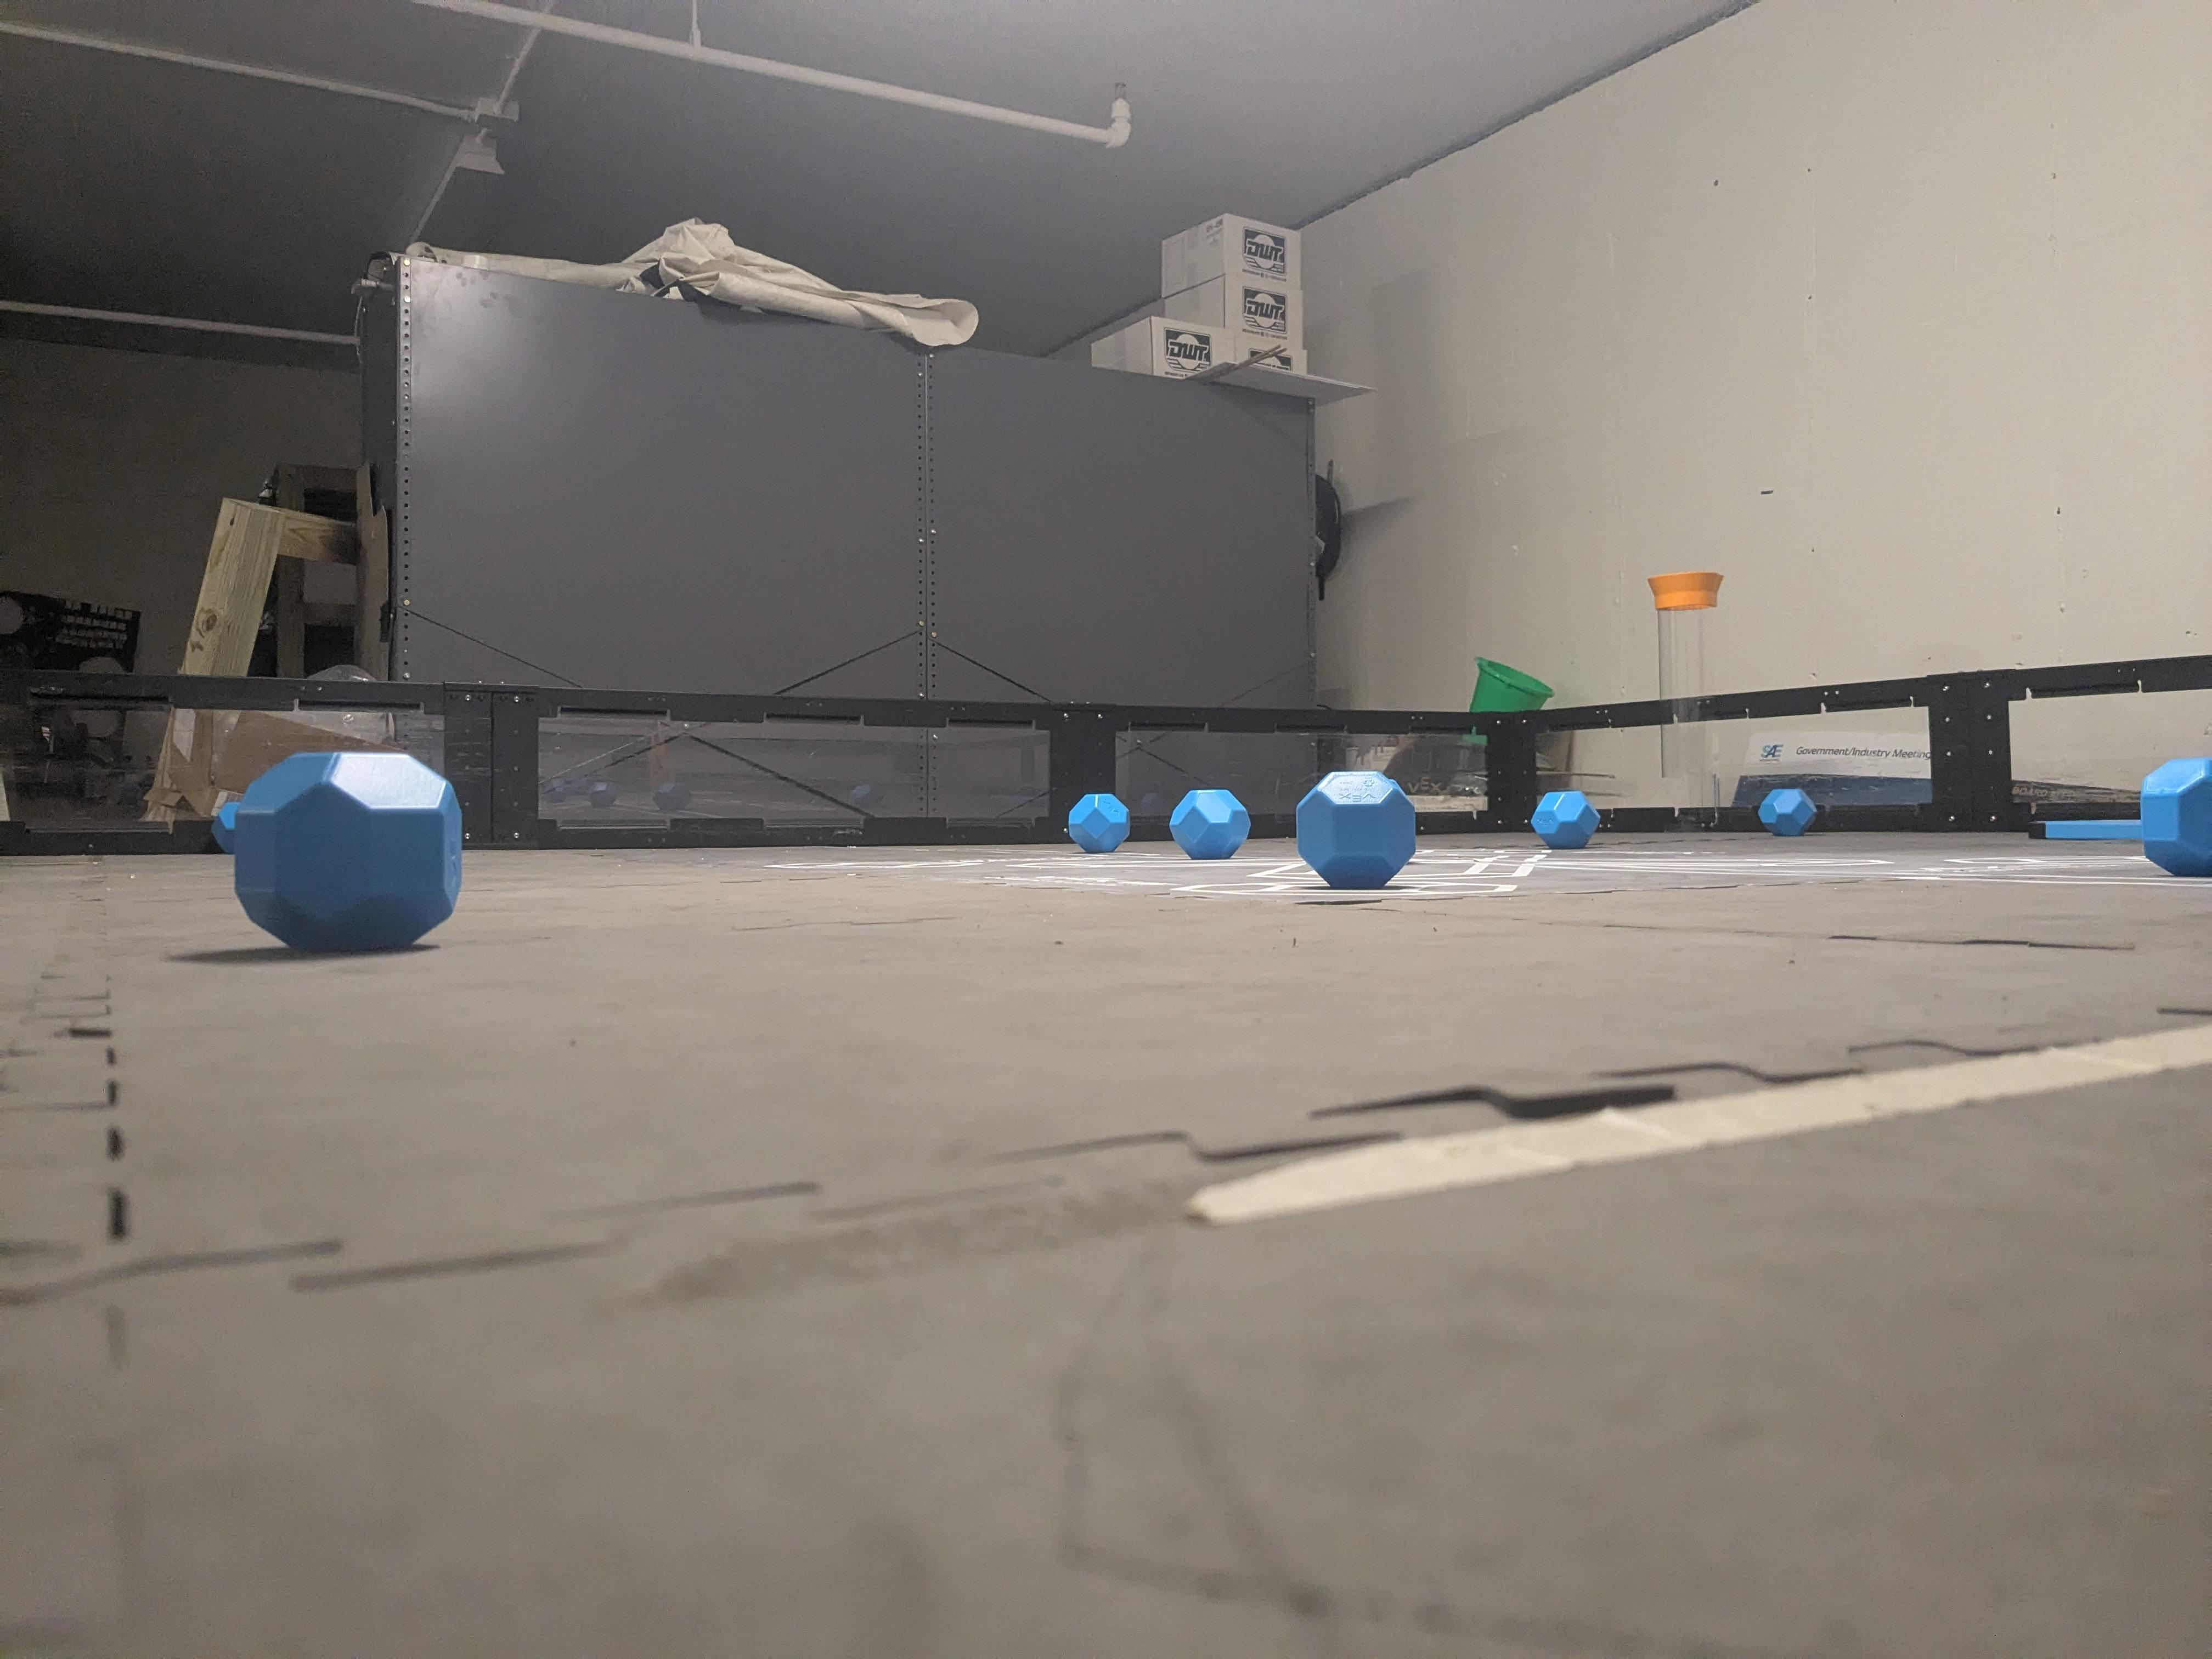Vex-Pieces-BLUE: (216, 751, 465, 953), (1299, 772, 1413, 889), (2139, 756, 2207, 877), (1169, 793, 1251, 861), (1529, 793, 1599, 847), (1068, 795, 1130, 850), (1759, 789, 1820, 836)
